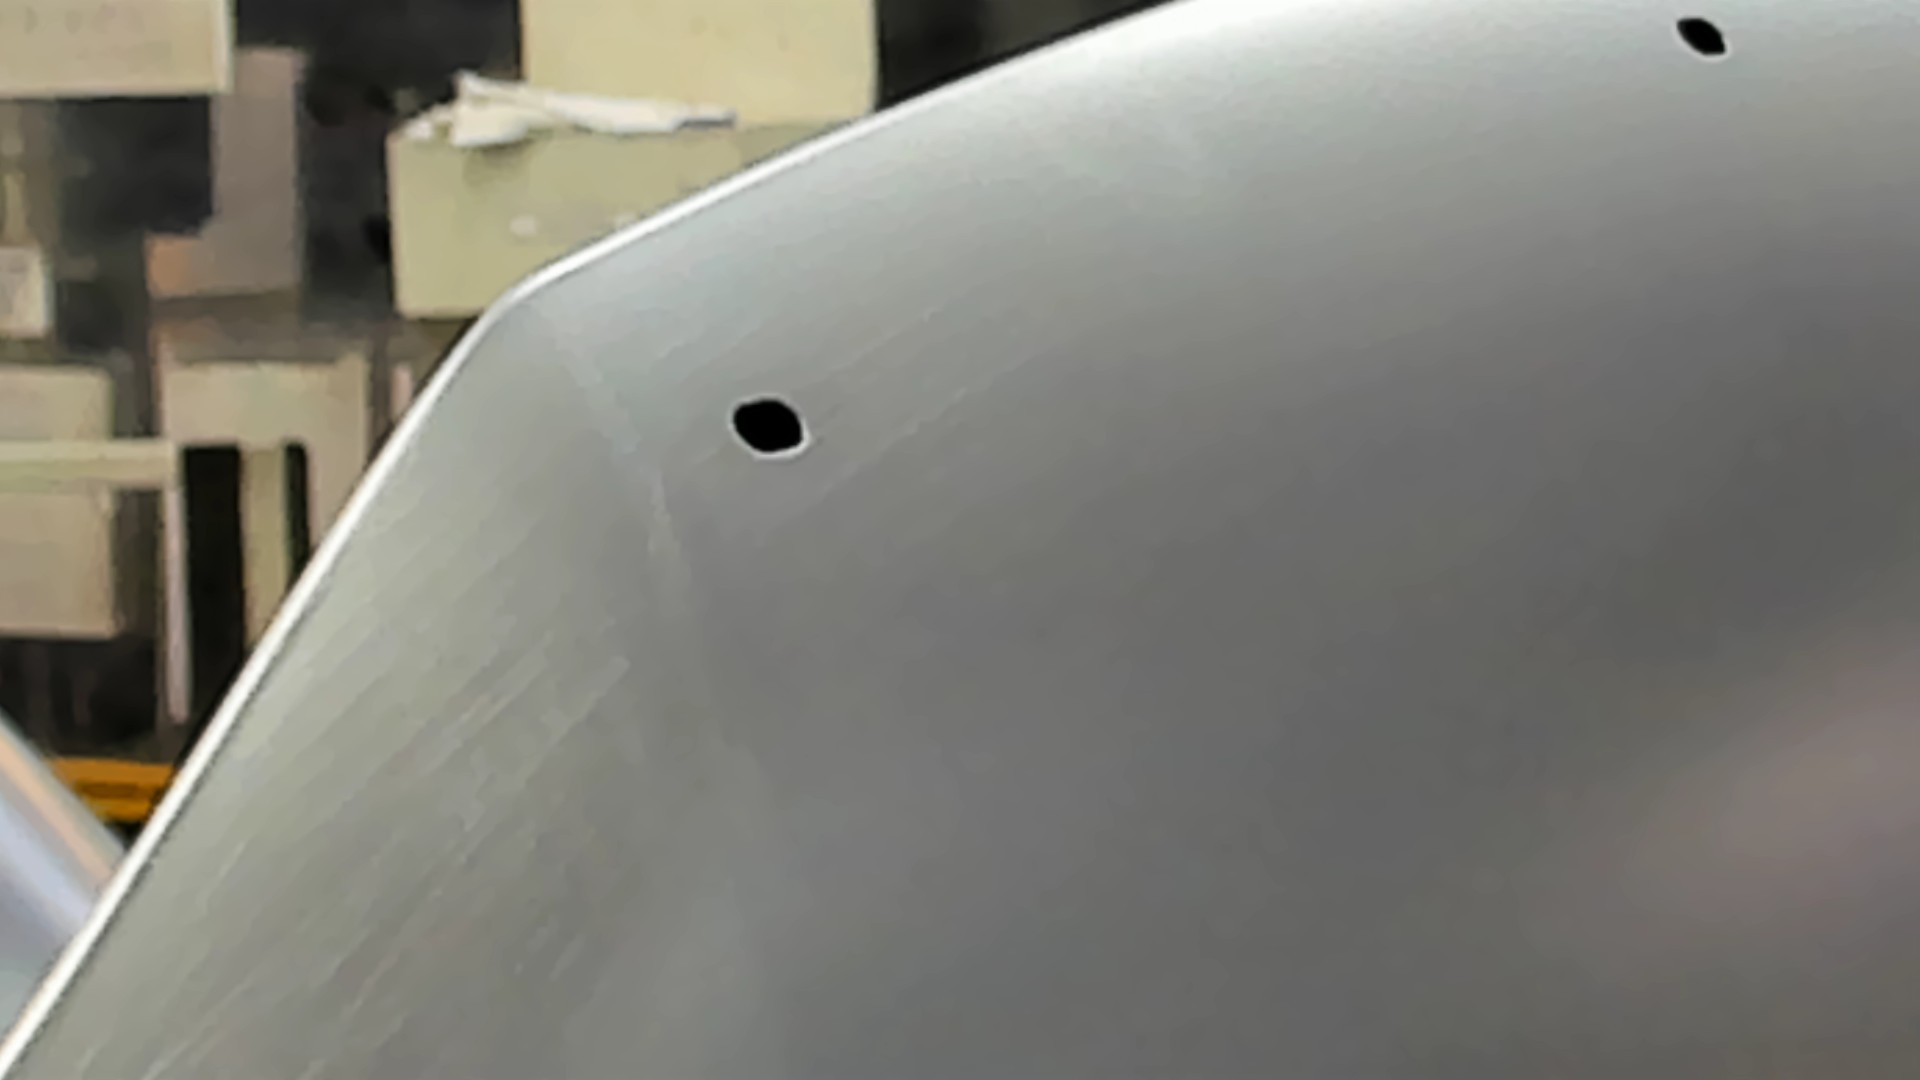amorfo: (720, 390, 820, 462), (1669, 17, 1738, 69)
